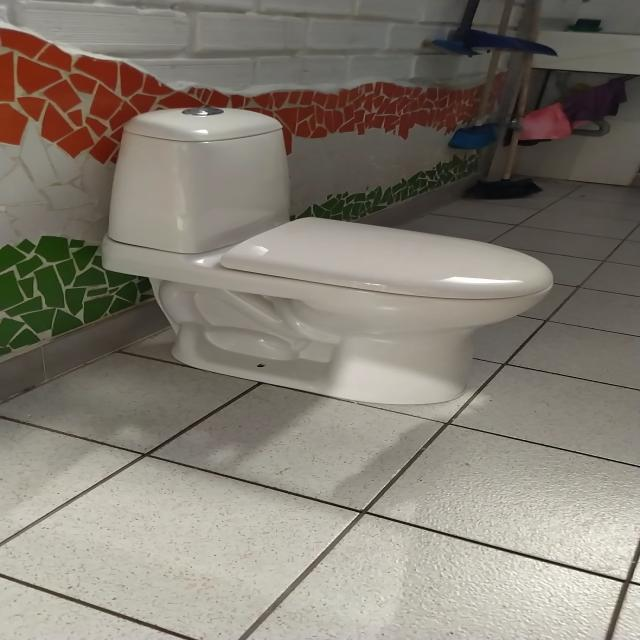toilet: (99, 106, 553, 406)
